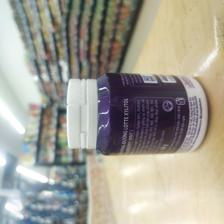Xylitol_BTS: (64, 71, 209, 157)
